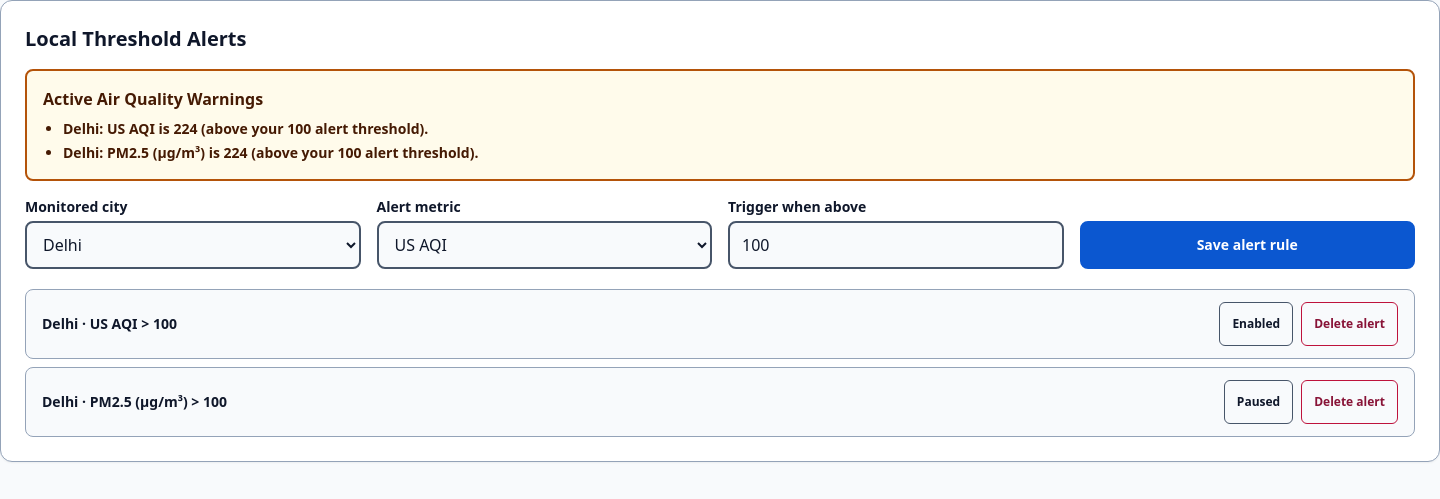
Test: ThresholdAlertsSection validates bounds, toggles, deletes, and passes axe
Later steps or results of the test are not shown.
Expected: the list item "Delhi: US AQI is 224 (above your 100 alert threshold)." is shown, [63,119,428,138]
Replace the text in the number field labelled "Trigger when above" with "5" at (896, 245), box [728,221,1064,269]
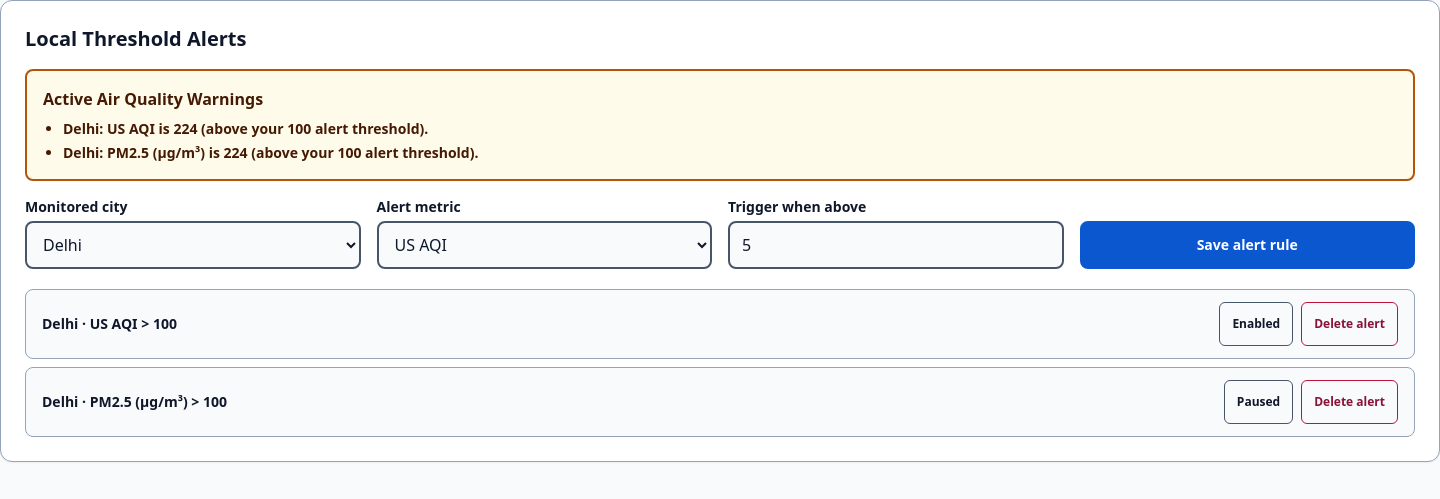
Click the button "Save alert rule" at (1247, 245), box [1080,221,1415,269]
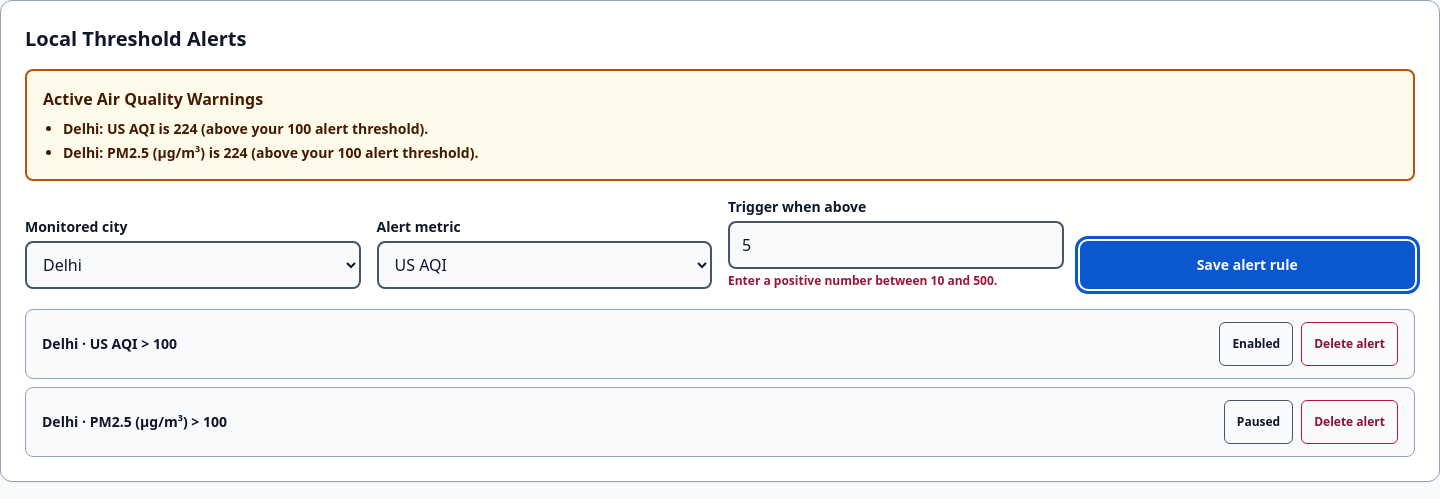
Expected: the text "Enter a positive number between 10 and 500." is shown, [728,272,997,289]
